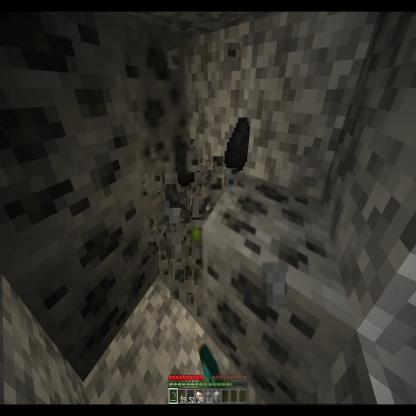coal ore: (201, 172, 356, 416), (0, 0, 137, 241), (24, 191, 165, 377), (120, 32, 190, 174)
